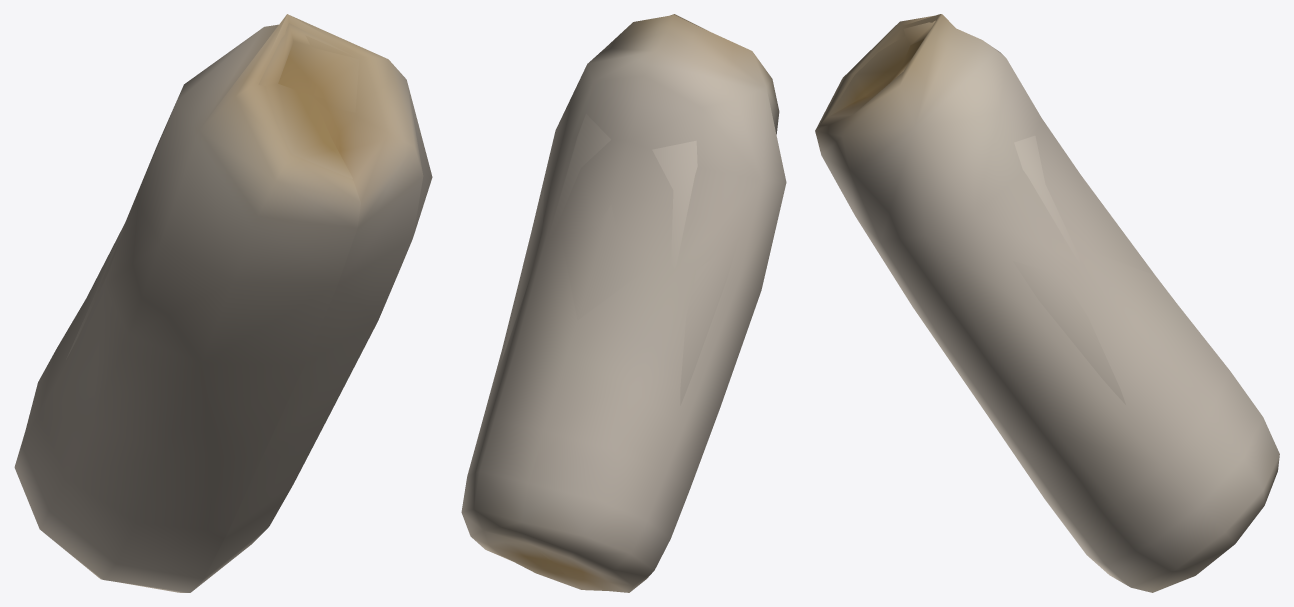
The model's file is vertebrae caudales 16.fbx.
3 renders of one model, left to right at view 1: azimuth 30°, elevation 25°; view 2: azimuth 150°, elevation 25°; view 3: azimuth 270°, elevation 25°, orthographic. The views are drawn at different scales.
Parts seen in each view (by area): view 1: vertebrae caudales 16, vertebrae caudales 16 low; view 2: vertebrae caudales 16, vertebrae caudales 16 low; view 3: vertebrae caudales 16, vertebrae caudales 16 low.
Boxes of the visible parts, x1,y1,x2,y2 form: vertebrae caudales 16: (14, 14, 432, 592); vertebrae caudales 16 low: (66, 23, 359, 359); vertebrae caudales 16: (461, 14, 786, 592); vertebrae caudales 16 low: (501, 114, 739, 560); vertebrae caudales 16: (815, 14, 1279, 592); vertebrae caudales 16 low: (830, 20, 1155, 404).
Size of the model in its own units: 0.5336 by 1.24 by 0.9156.
Materials: 1 (1 with a texture image).
